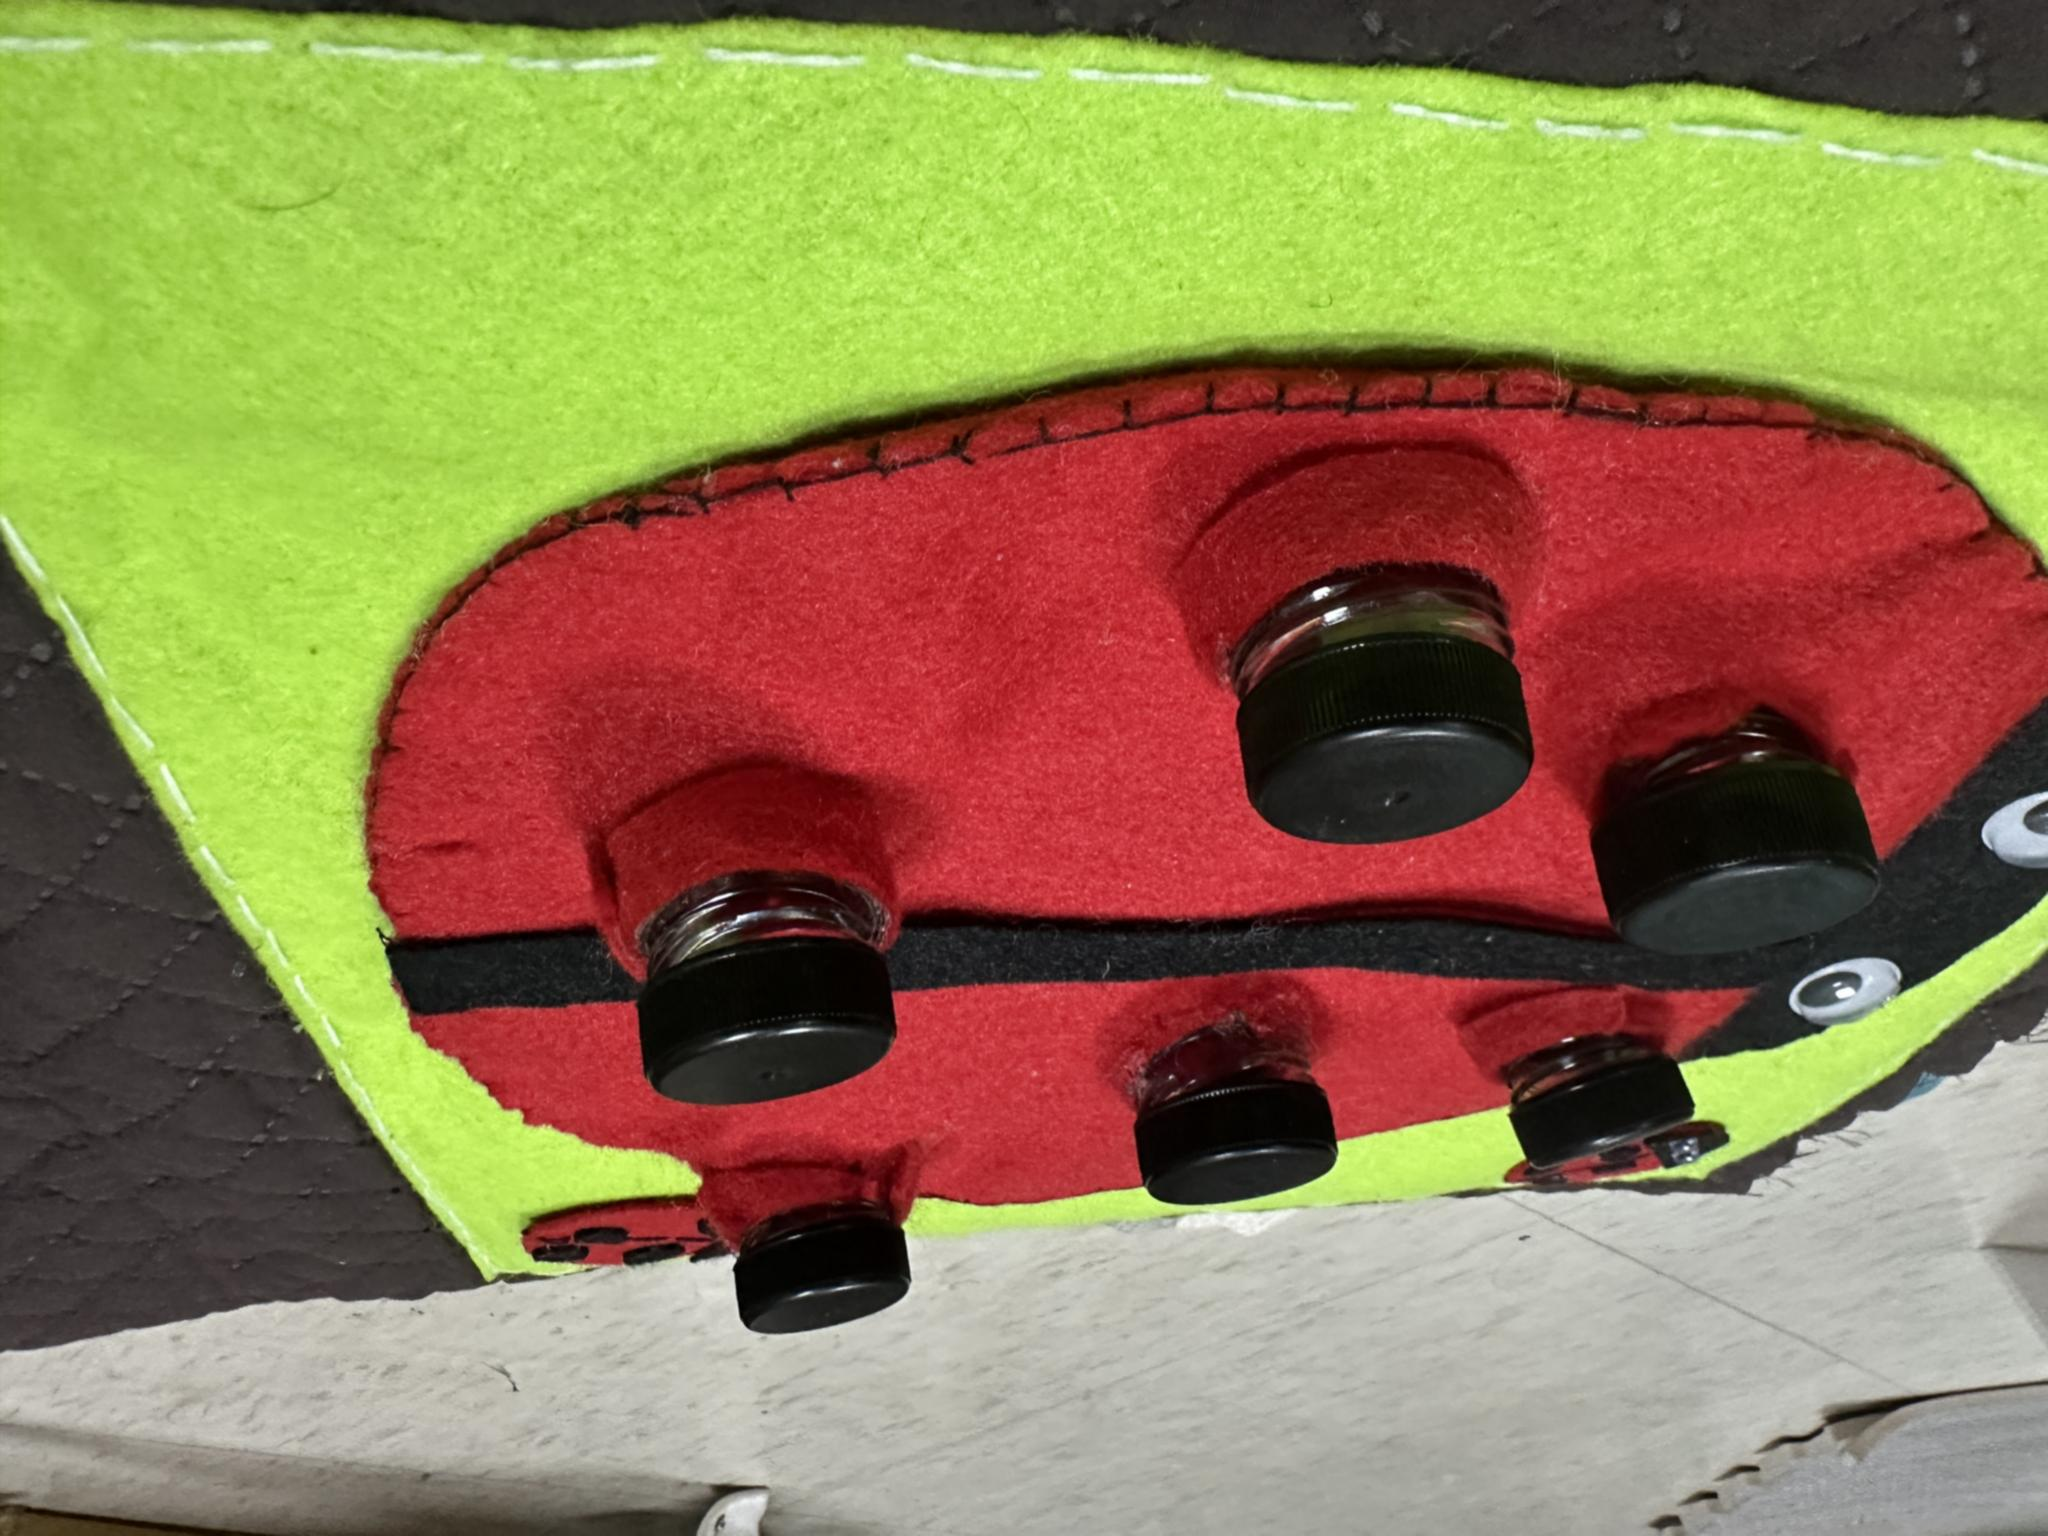cap_ng: (1169, 439, 1567, 852), (563, 750, 906, 1108), (1577, 679, 1901, 957), (1100, 973, 1364, 1210), (679, 1128, 943, 1342), (1453, 978, 1695, 1176)
